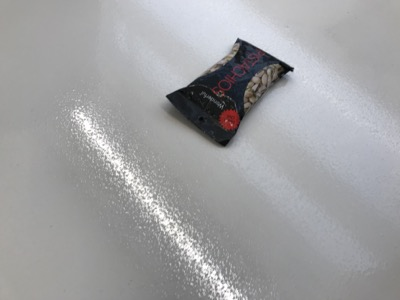pistachio: (165, 38, 294, 147)
